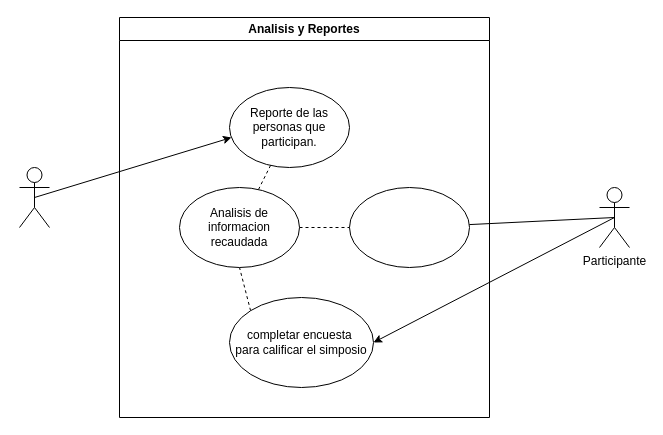
This 663x435 diagram has some shape labels left out. The centre of each missing label's shape, as x and y in pixels:
"Admin" belongs at (x=34, y=197).
"Completa registro de asistencia." belongs at (x=409, y=227).
